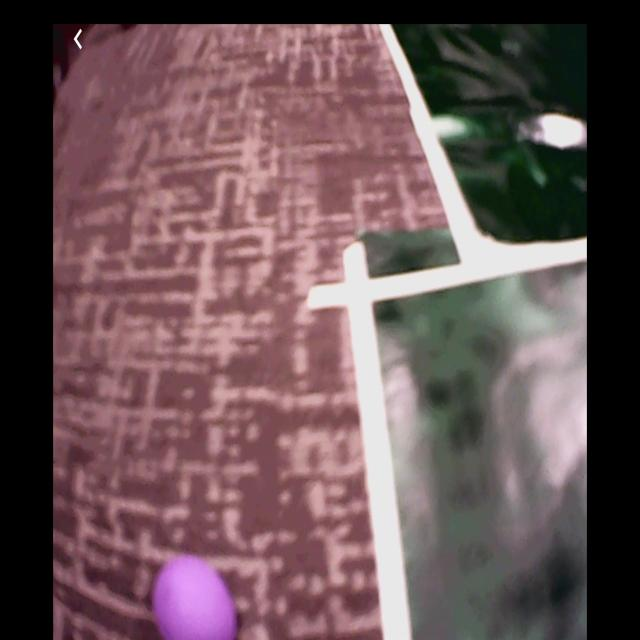ball: (152, 553, 240, 639)
